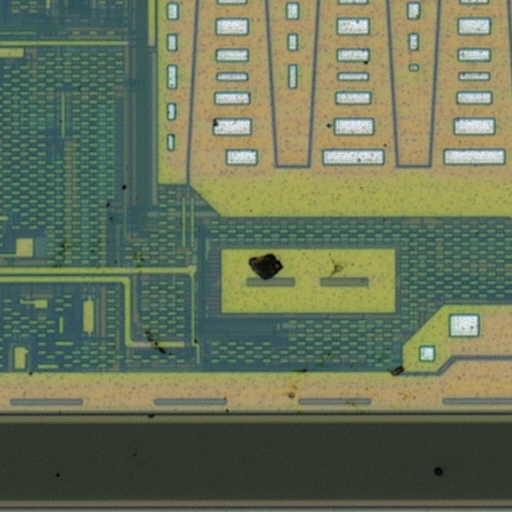PO CONTAMINATION: (22, 54, 453, 485)
